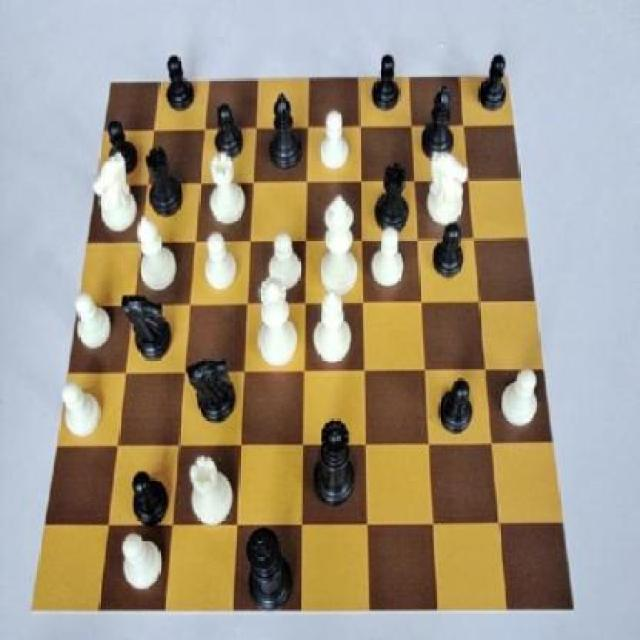bishop: (418, 79, 461, 173), (264, 88, 306, 176)
black-bishop: (245, 520, 292, 613)
black-king: (185, 352, 237, 441), (122, 286, 174, 366)
black-knight: (435, 368, 481, 448), (128, 455, 173, 533), (155, 54, 201, 126), (424, 214, 470, 286), (472, 40, 513, 116), (100, 115, 146, 181), (369, 45, 404, 122), (210, 98, 248, 168)
black-pawn: (309, 411, 363, 513)
black-queen: (140, 135, 192, 233), (371, 157, 418, 237)
black-rook: (131, 215, 178, 298), (311, 284, 356, 370)
white-bishop: (315, 189, 364, 302)
white-king: (90, 152, 142, 238), (424, 142, 472, 232)
white-knight: (500, 360, 546, 440), (57, 377, 108, 449), (197, 231, 244, 304), (119, 531, 163, 606), (74, 291, 120, 362), (366, 228, 409, 298), (316, 104, 354, 178), (266, 228, 306, 298)
white-pawn: (254, 271, 303, 376)
white-queen: (185, 451, 237, 532), (205, 146, 250, 231)
